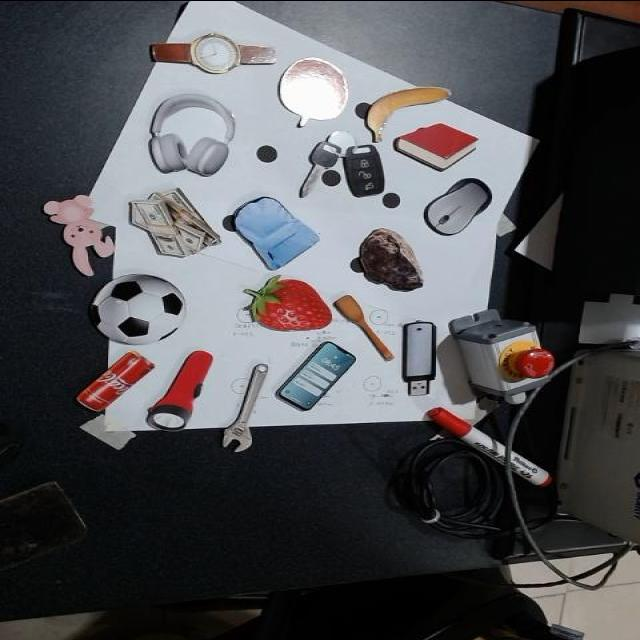Other Objects: (214, 187, 325, 272), (120, 181, 221, 264), (270, 335, 363, 414), (266, 50, 361, 127), (148, 93, 236, 176), (142, 342, 218, 434), (412, 170, 506, 241), (91, 273, 185, 343), (129, 186, 221, 256), (301, 129, 388, 198), (43, 193, 116, 275), (275, 339, 357, 410), (329, 290, 409, 362), (151, 30, 279, 73), (76, 349, 156, 411), (365, 85, 452, 141), (219, 360, 270, 453), (223, 362, 271, 451), (359, 226, 425, 290), (403, 321, 436, 394)
